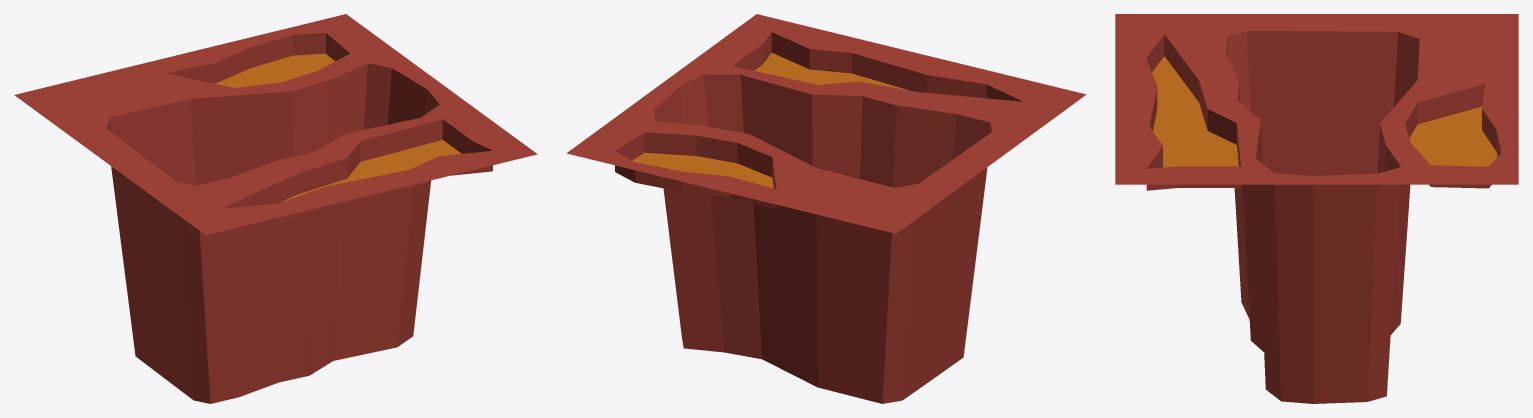
File: Field_15_digged.fbx
3 views of the same model, side by side, from view 1: azimuth 30°, elevation 25°; view 2: azimuth 150°, elevation 25°; view 3: azimuth 270°, elevation 25° (orthographic). The views are drawn at different scales.
Visible parts, largest first — view 1: Plane.033; view 2: Plane.033; view 3: Plane.033.
Part boxes in pixels (x1,y1,x2,y2): Plane.033: [14, 14, 537, 403]; Plane.033: [566, 14, 1086, 403]; Plane.033: [1115, 14, 1518, 403].
Size of the model in its own units: 400 by 263 by 400.
